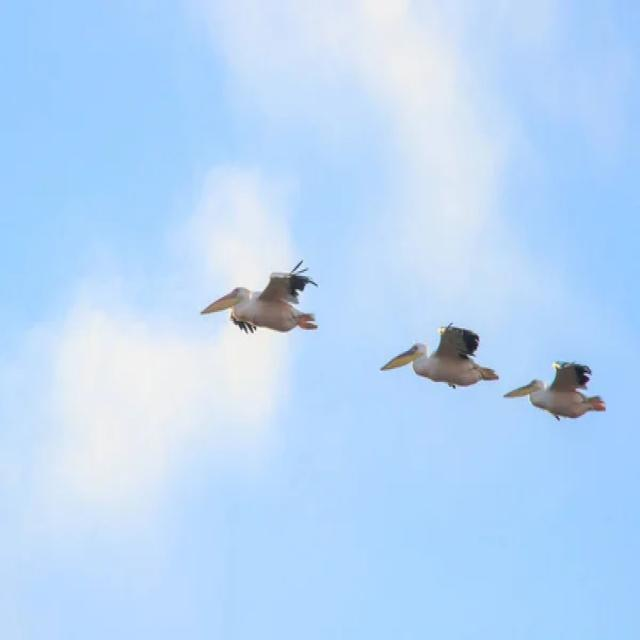bird: (181, 200, 365, 466), (485, 316, 625, 444), (374, 296, 501, 432)
